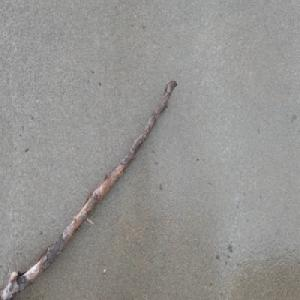Wood: (0, 78, 177, 300)
